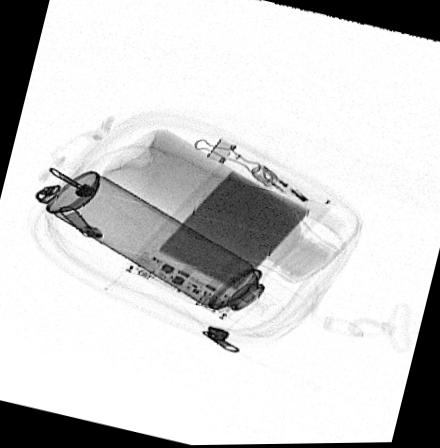Lighter: (248, 165, 347, 234)
Powerbank: (121, 148, 337, 323)
Sprayer: (46, 172, 309, 338)
